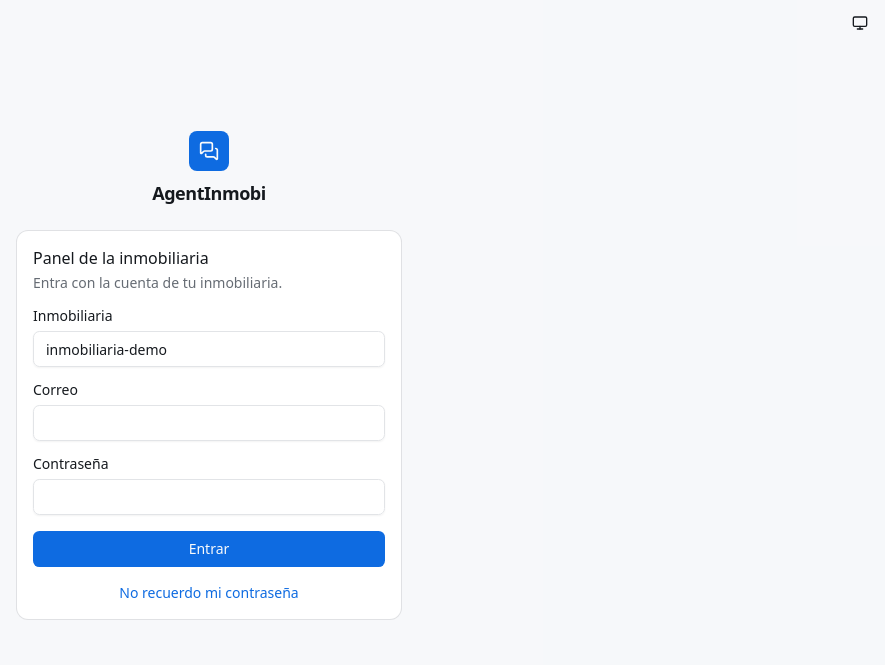
Pantalla de acceso › muestra el mensaje que devolvió la API, no uno inventado
The width and height of the screenshot is (885, 665).
Type "asesor@alfa.co" into the field labelled "Correo". click: (209, 423)
box: [33,405,385,441]
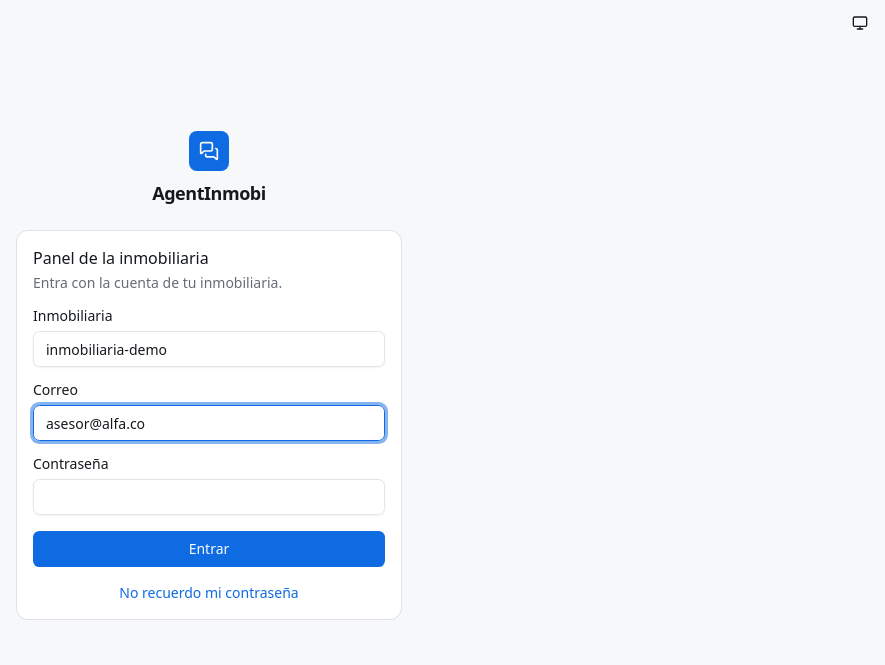
Type "mala" into the password field labelled "Contraseña". click: (209, 497)
box: [33,479,385,515]
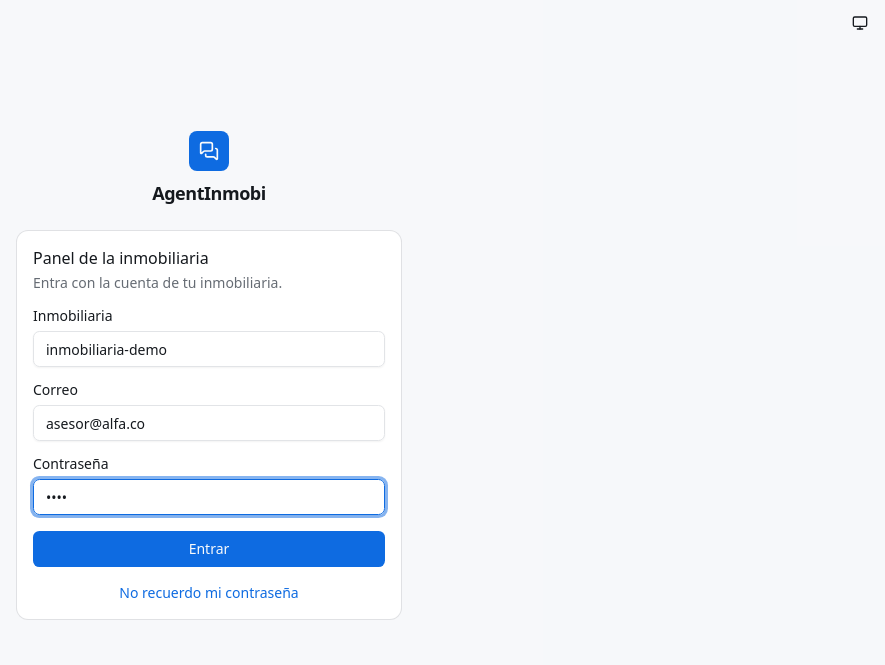
Click the button "Entrar". click: (209, 549)
box: [33,531,385,567]
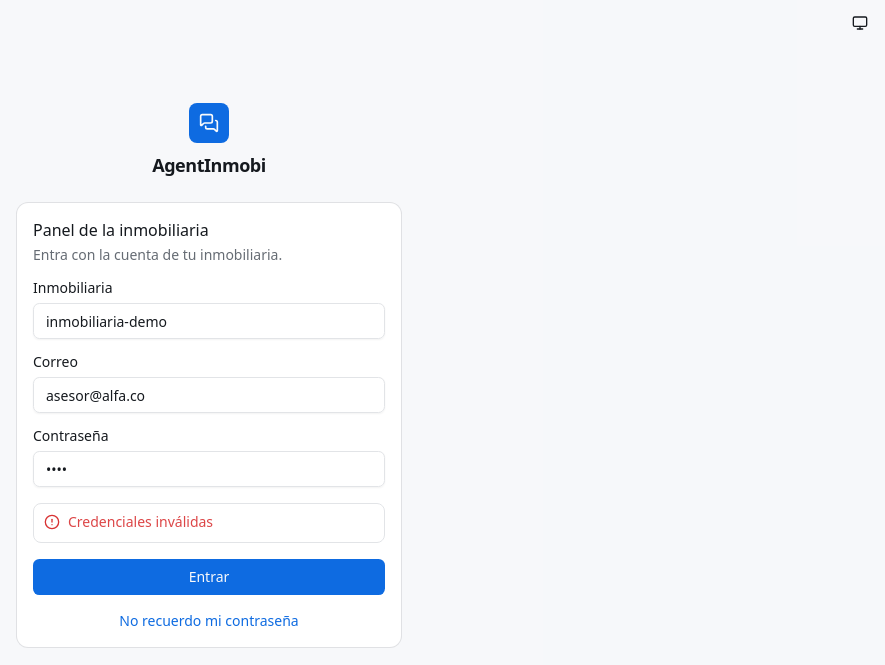
Check: the text "Credenciales inválidas" is shown, box [68,512,213,531]
